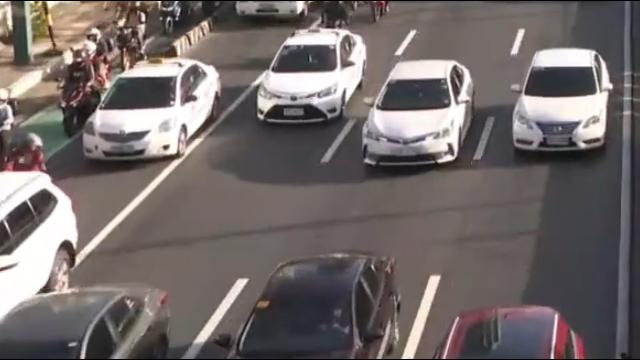car: (235, 253, 404, 360), (81, 60, 224, 165), (0, 283, 172, 360), (362, 57, 475, 172), (510, 46, 614, 153), (257, 28, 368, 126), (235, 0, 316, 21)
motorcycle: (58, 41, 100, 135), (116, 2, 151, 71), (85, 23, 116, 91), (154, 0, 185, 43)
